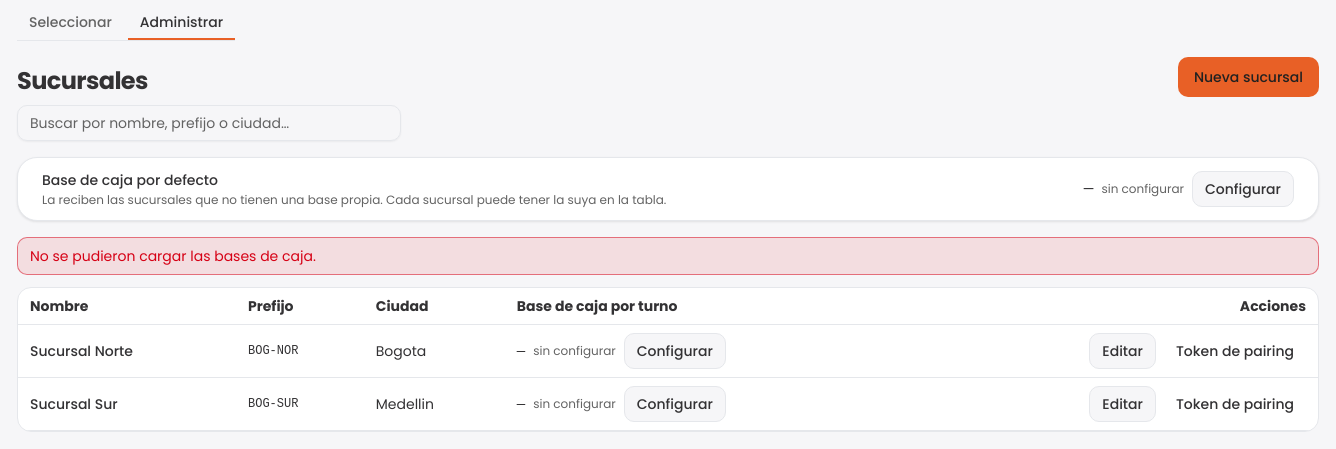
SeleccionarSucursal unified page › T10: empty query restores the full list (no filter)
The width and height of the screenshot is (1336, 449).
Expected: the row with test id "sucursal-row-22222222-2222-2222-2222-222222222222" is shown, x1=18 y1=378 x2=1318 y2=430
// Filter down to a single row.
Type "Medellin" into the search field with test id "sucursal-search". click: (209, 123)
box: x1=17 y1=105 x2=401 y2=141
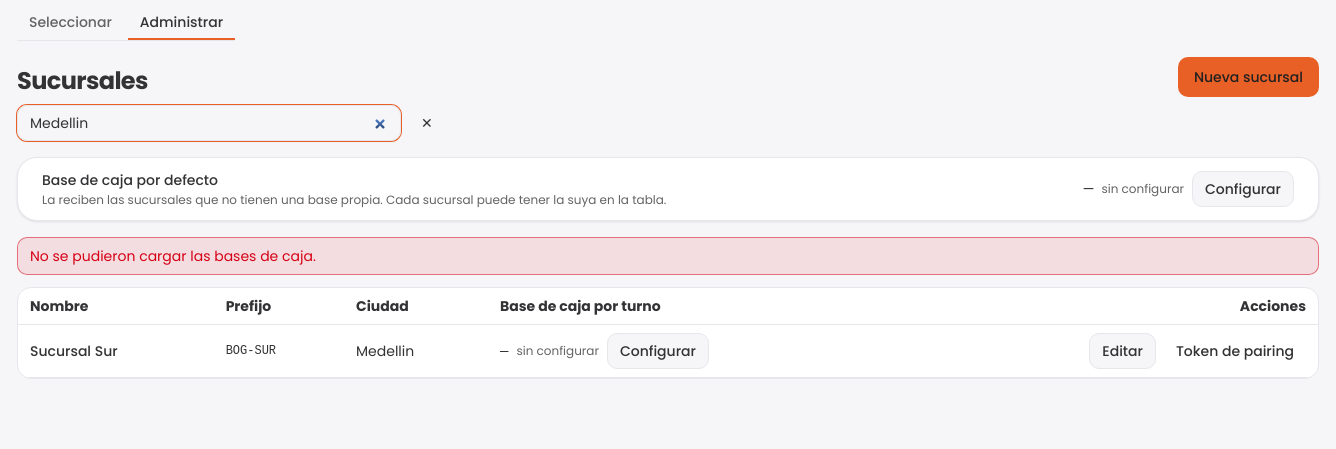
Expected: the row with test id "sucursal-row-11111111-1111-1111-1111-111111111111" is gone
Click the button with test id "sucursal-search-clear". click: (427, 123)
box: x1=409 y1=105 x2=445 y2=141
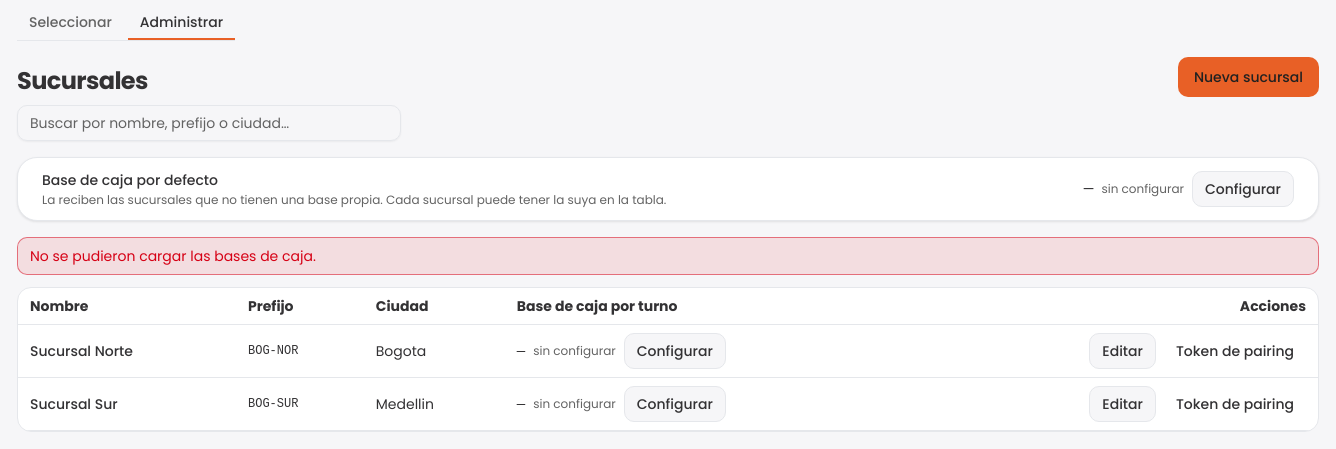
Expected: the row with test id "sucursal-row-22222222-2222-2222-2222-222222222222" is shown, x1=18 y1=378 x2=1318 y2=430
Expected: the search field with test id "sucursal-search" is empty, x1=17 y1=105 x2=401 y2=141
Expected: the row with test id "sucursal-row-11111111-1111-1111-1111-111111111111" is shown, x1=18 y1=324 x2=1318 y2=378
